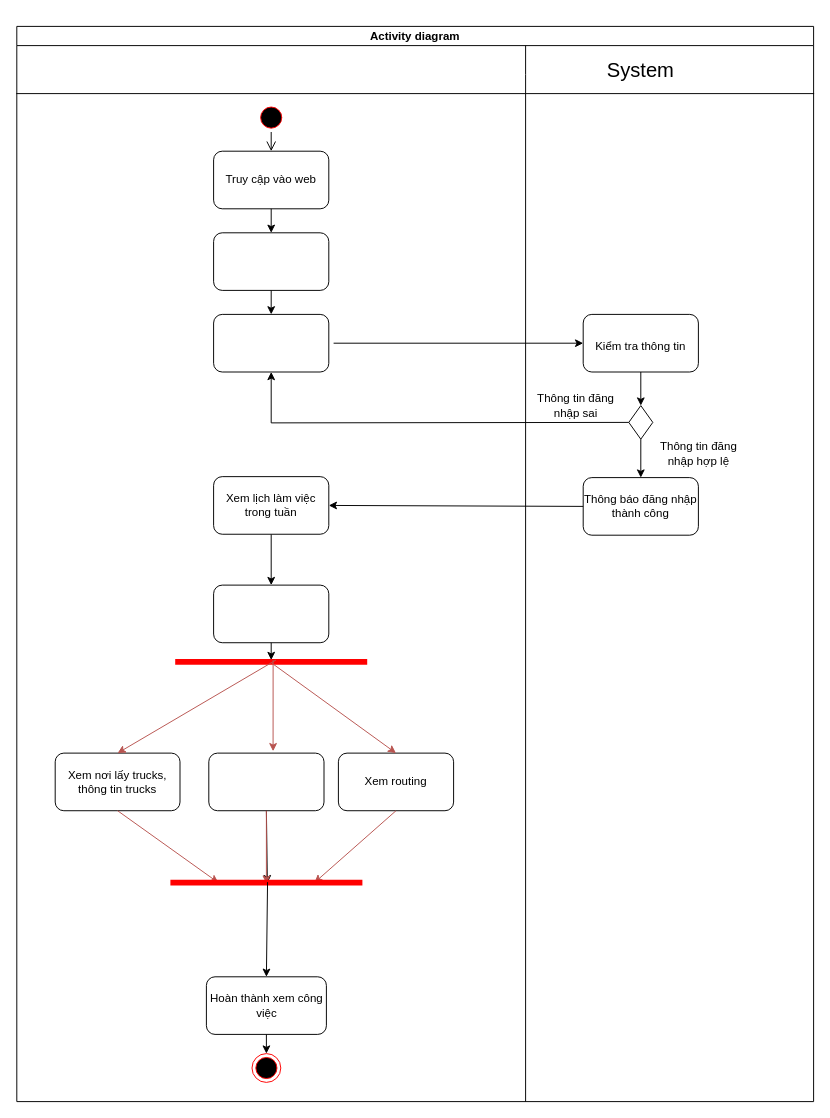
The diagram is 830 pixels wide and 1118 high, and some of its shapes have lost their labels. The shapes that lost their labels are listed below. From the top down, each one's centre as x and y in pixels, then its label:
At point 271,261: "Chọn vai trò của mình".
At point 271,342: "Đăng nhập tài khoản".
At point 271,613: "Xem nội dung công việc".
At point 266,781: "Xem trạng thái MCPs".
